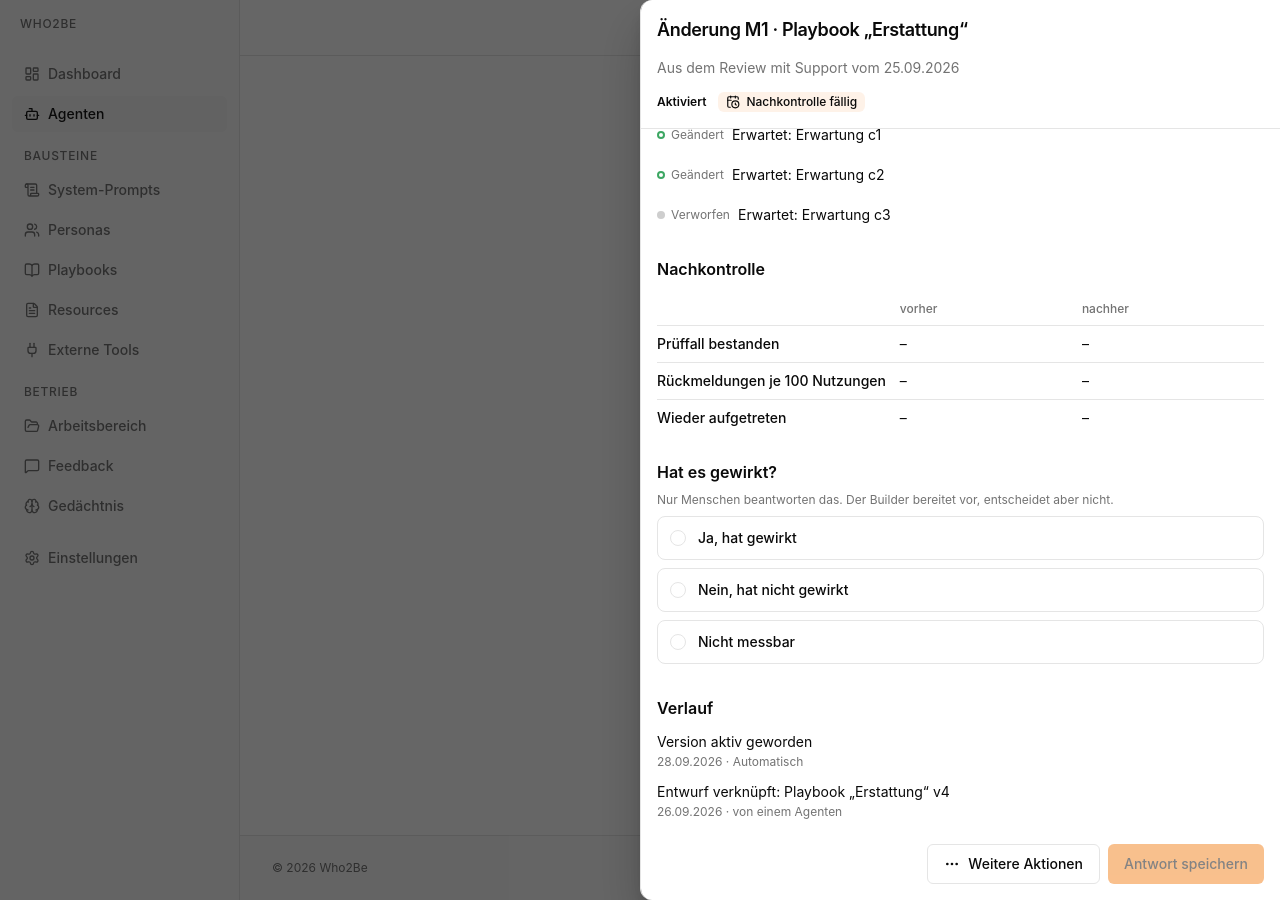
Test: ChangeActions: Hat es gewirkt? › fieldset mit legend, Hinweis, nichts vorausgewählt; Folgen-Satz mit Zählung
The image size is (1280, 900).
(page scrolled)
Check: the element "Hat es gewirkt?" is shown, box [657, 460, 1264, 672]
Check: the text with test id "change-review-human-only" reads "Nur Menschen beantworten das. Der Builder bereitet vor, entscheidet aber nicht.", box [657, 492, 1114, 507]
What coordinates should you click on to do the following:
click the radio button named "Ja, hat gewirkt" next to "Ja, hat gewirkt"
I would click on:
 (678, 538)
Its box is [670, 530, 686, 546].
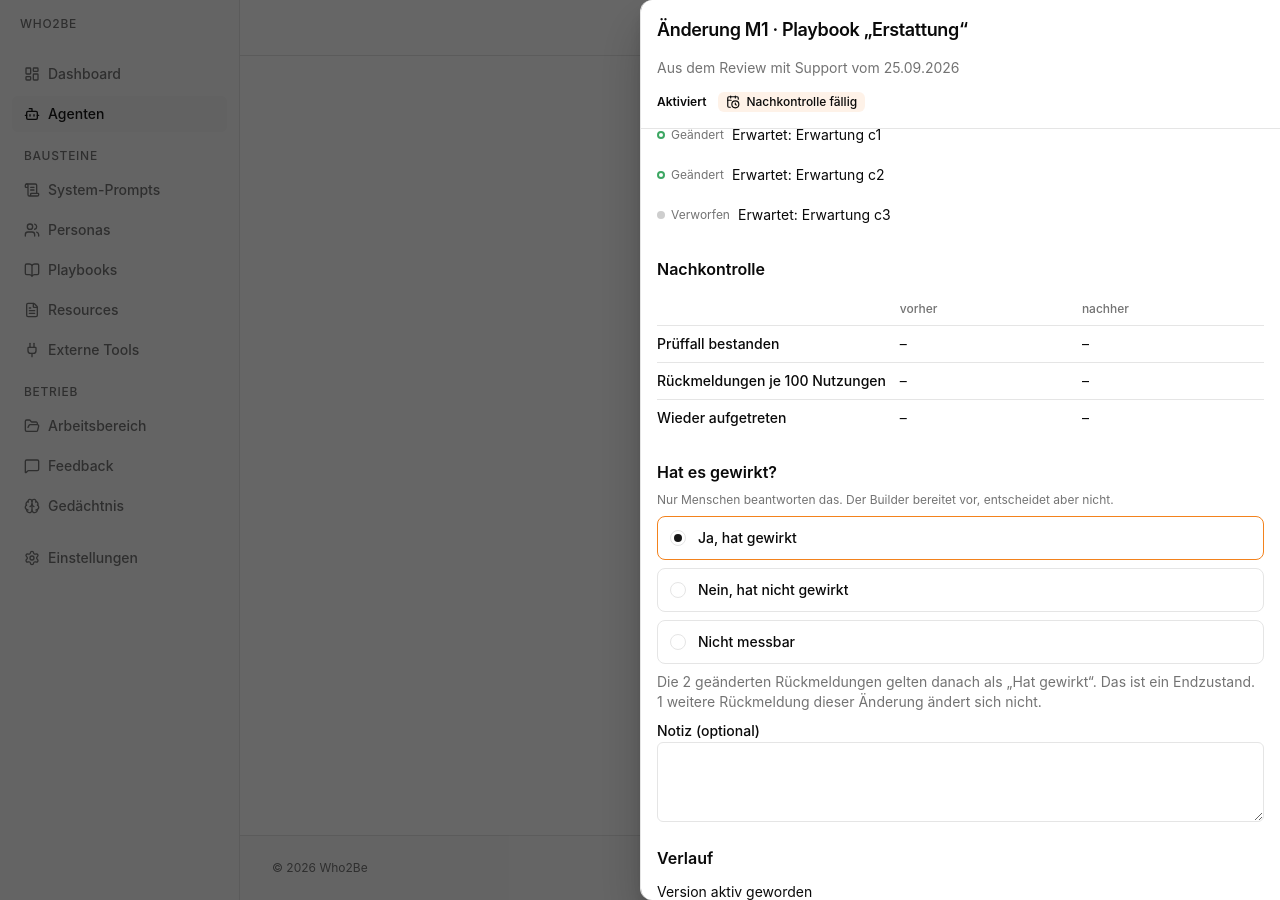
Check: the text with test id "change-review-effect" shows "Die 2 geänderten Rückmeldungen gelten danach als „Hat gewirkt“. Das ist ein Endzustand. 1 weitere Rückmeldung dieser Änderung ändert sich nicht.", box [657, 672, 1264, 712]
What coordinates should you click on to do the following:
click the radio button named "Nein, hat nicht gewirkt" next to "Nein, hat nicht gewirkt"
I would click on:
 (678, 590)
Its box is [670, 582, 686, 598].
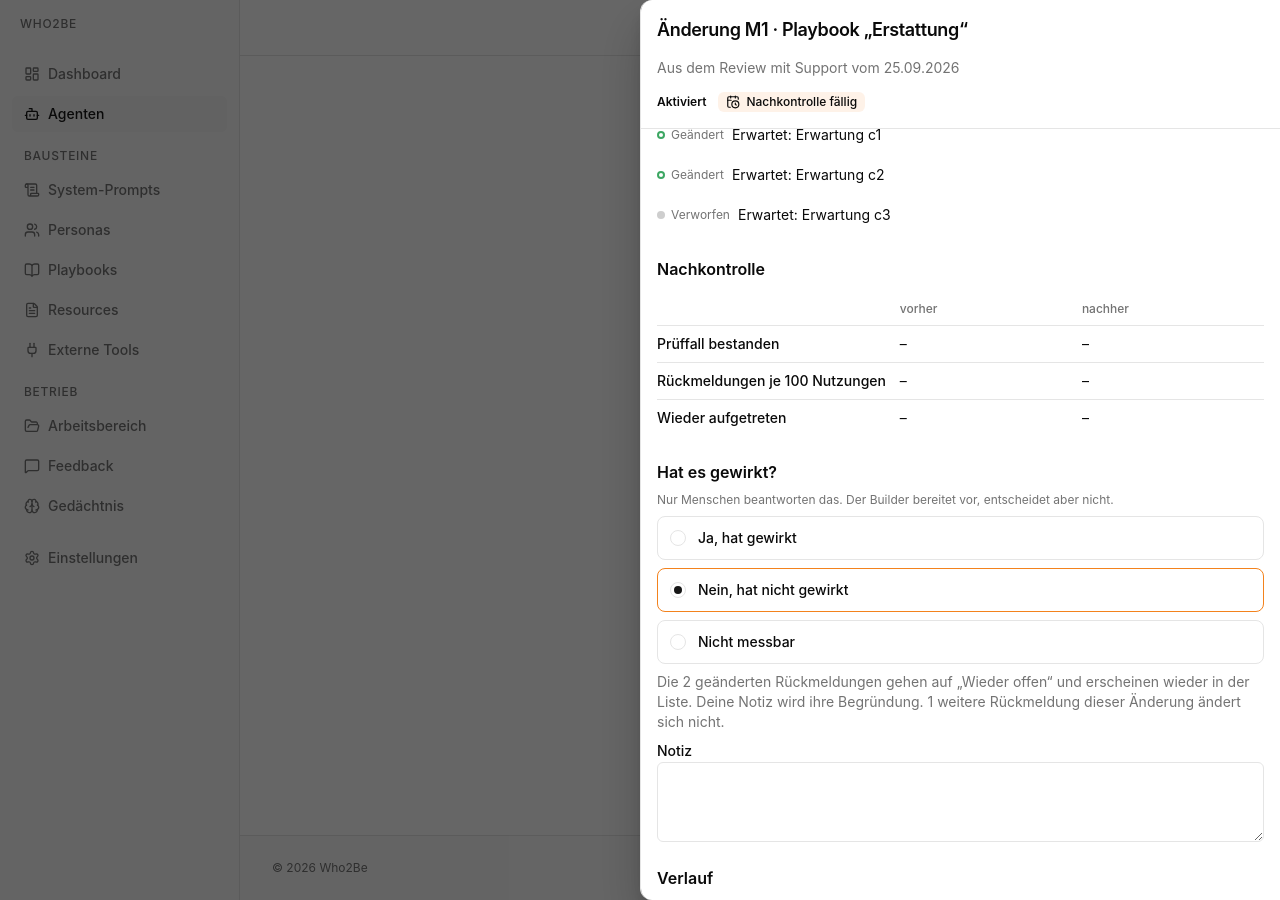
Check: the text with test id "change-review-effect" shows "Die 2 geänderten Rückmeldungen gehen auf „Wieder offen“ und erscheinen wieder in der Liste.", box [657, 673, 1250, 710]
What coordinates should you click on to do the following:
click the radio button named "Nicht messbar" next to "Nicht messbar"
I would click on:
 (678, 642)
Its box is [670, 634, 686, 650].
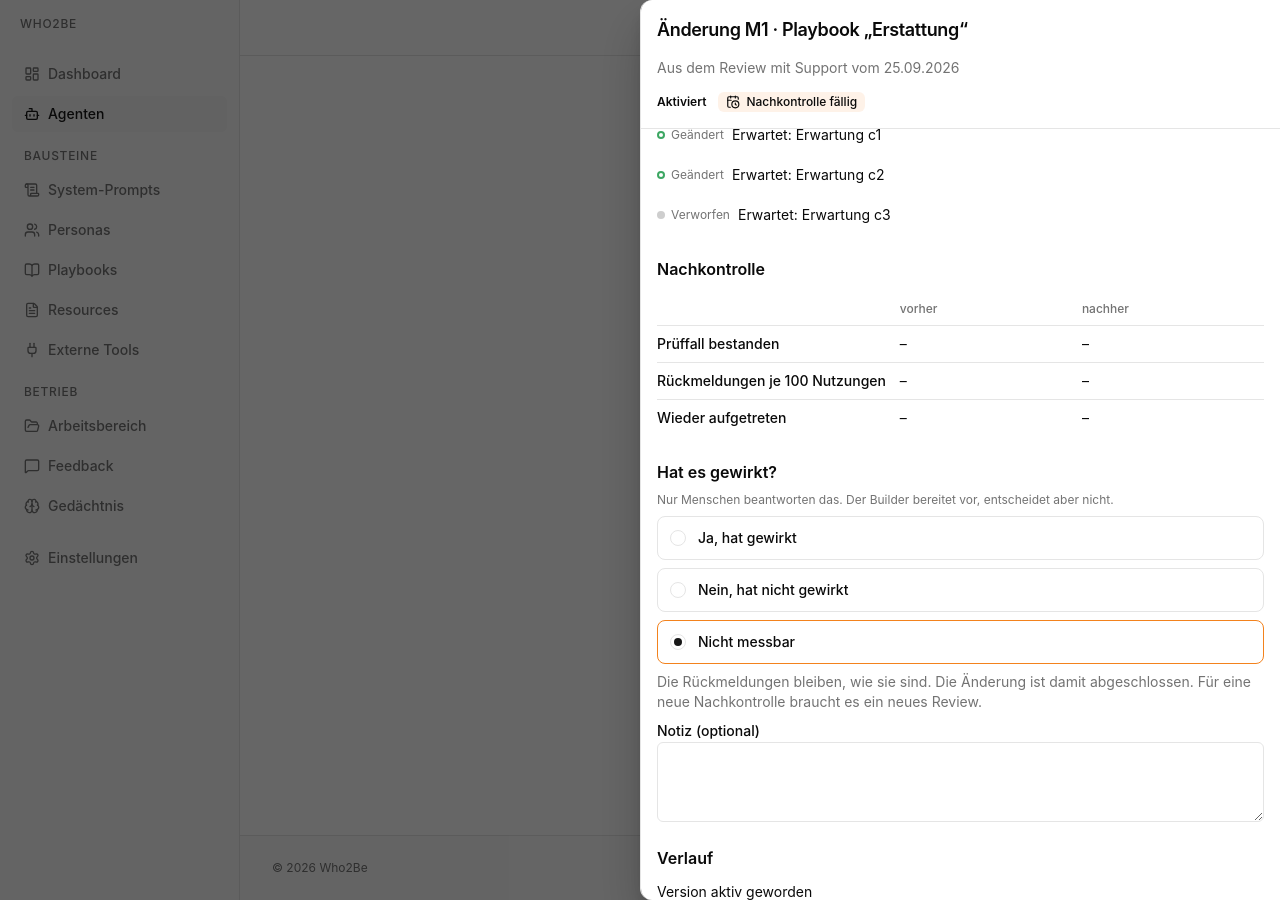
Check: the text with test id "change-review-effect" shows "Die Rückmeldungen bleiben, wie sie sind. Die Änderung ist damit abgeschlossen.", box [657, 673, 1251, 710]
Check: the text with test id "change-review-effect" no longer shows "weitere Rückmeldung", box [657, 672, 1264, 712]
